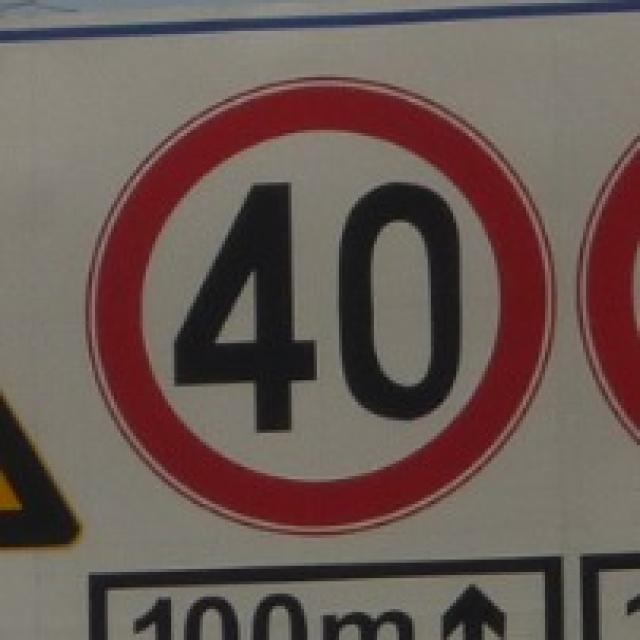Speed Limit -40-: (169, 182, 470, 436)
